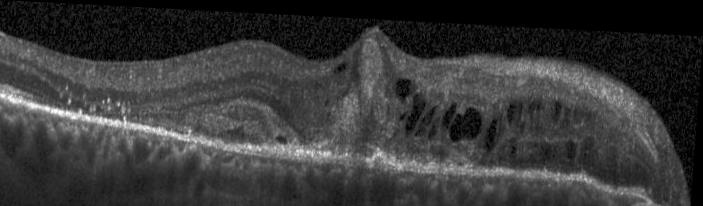intraretinal_cyst: (452, 101, 484, 136), (407, 90, 426, 134), (443, 97, 458, 124), (486, 114, 499, 145), (396, 75, 412, 100), (423, 101, 438, 121), (541, 133, 553, 155), (508, 98, 518, 120), (565, 135, 577, 153), (553, 95, 563, 114), (430, 118, 440, 136), (417, 120, 428, 133), (335, 57, 346, 70), (529, 95, 536, 108), (278, 133, 289, 141), (511, 140, 518, 151), (518, 98, 523, 112), (401, 108, 407, 116), (326, 95, 331, 103), (538, 99, 541, 105)
subretinal_hyperreflective_material: (312, 33, 398, 149), (131, 96, 299, 144)
